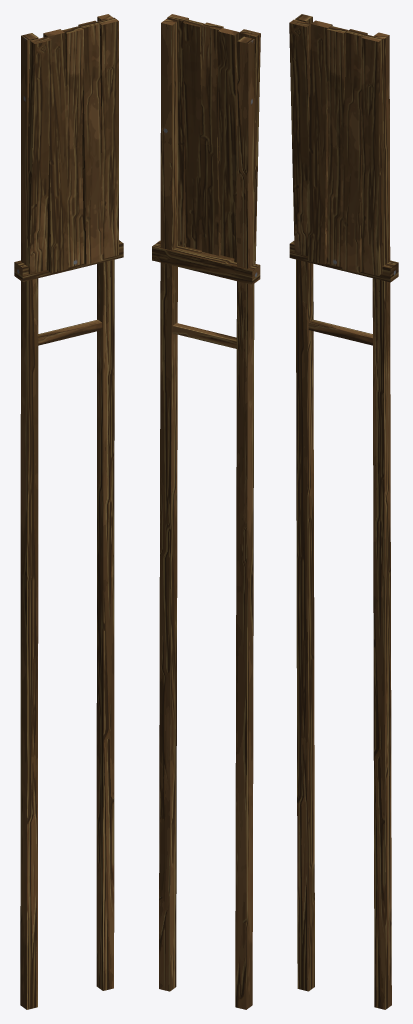
File: GameReadyWandD.glb
3 views of the same model, side by side, from view 1: azimuth 30°, elevation 25°; view 2: azimuth 150°, elevation 25°; view 3: azimuth 330°, elevation 25° (orthographic).
Visible parts, largest first — view 1: PlattformWandD-col; view 2: PlattformWandD-col; view 3: PlattformWandD-col.
Part boxes in pixels (<box>): PlattformWandD-col: <box>14,14,123,1009</box>; PlattformWandD-col: <box>152,14,260,1009</box>; PlattformWandD-col: <box>289,14,398,1009</box>.
Bounding box in the file's own units: 1.7 × 15.65 × 0.4347.
1 material, 1 textured.
